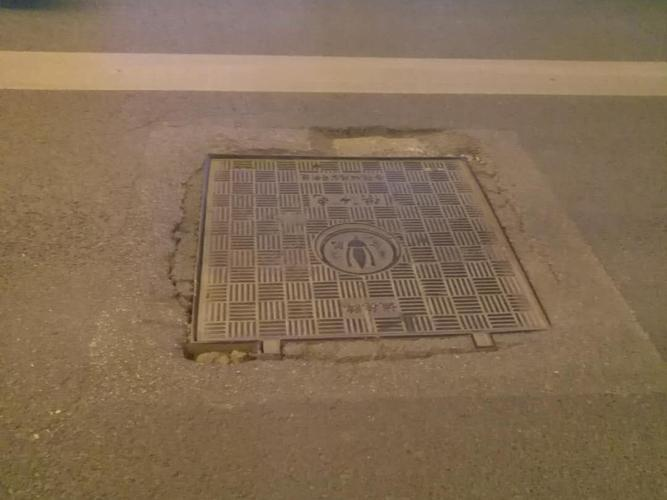circle: (135, 118, 589, 397)
